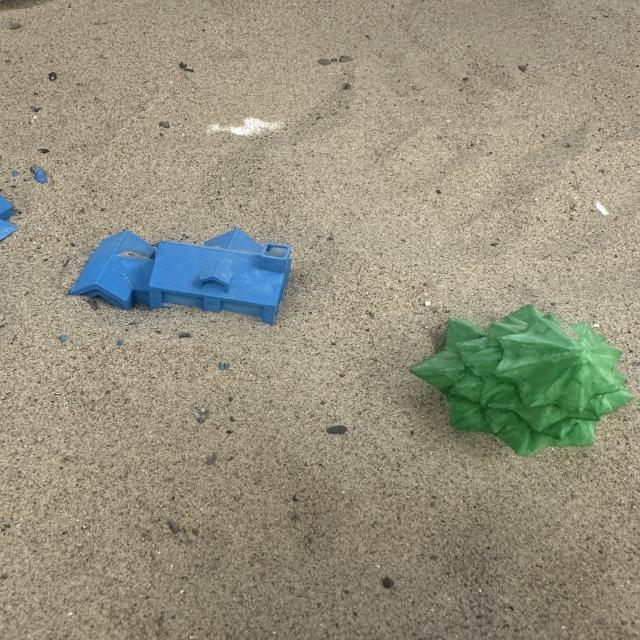fire: (68, 226, 294, 326)
house: (68, 228, 157, 310)
tree: (408, 303, 634, 457)
